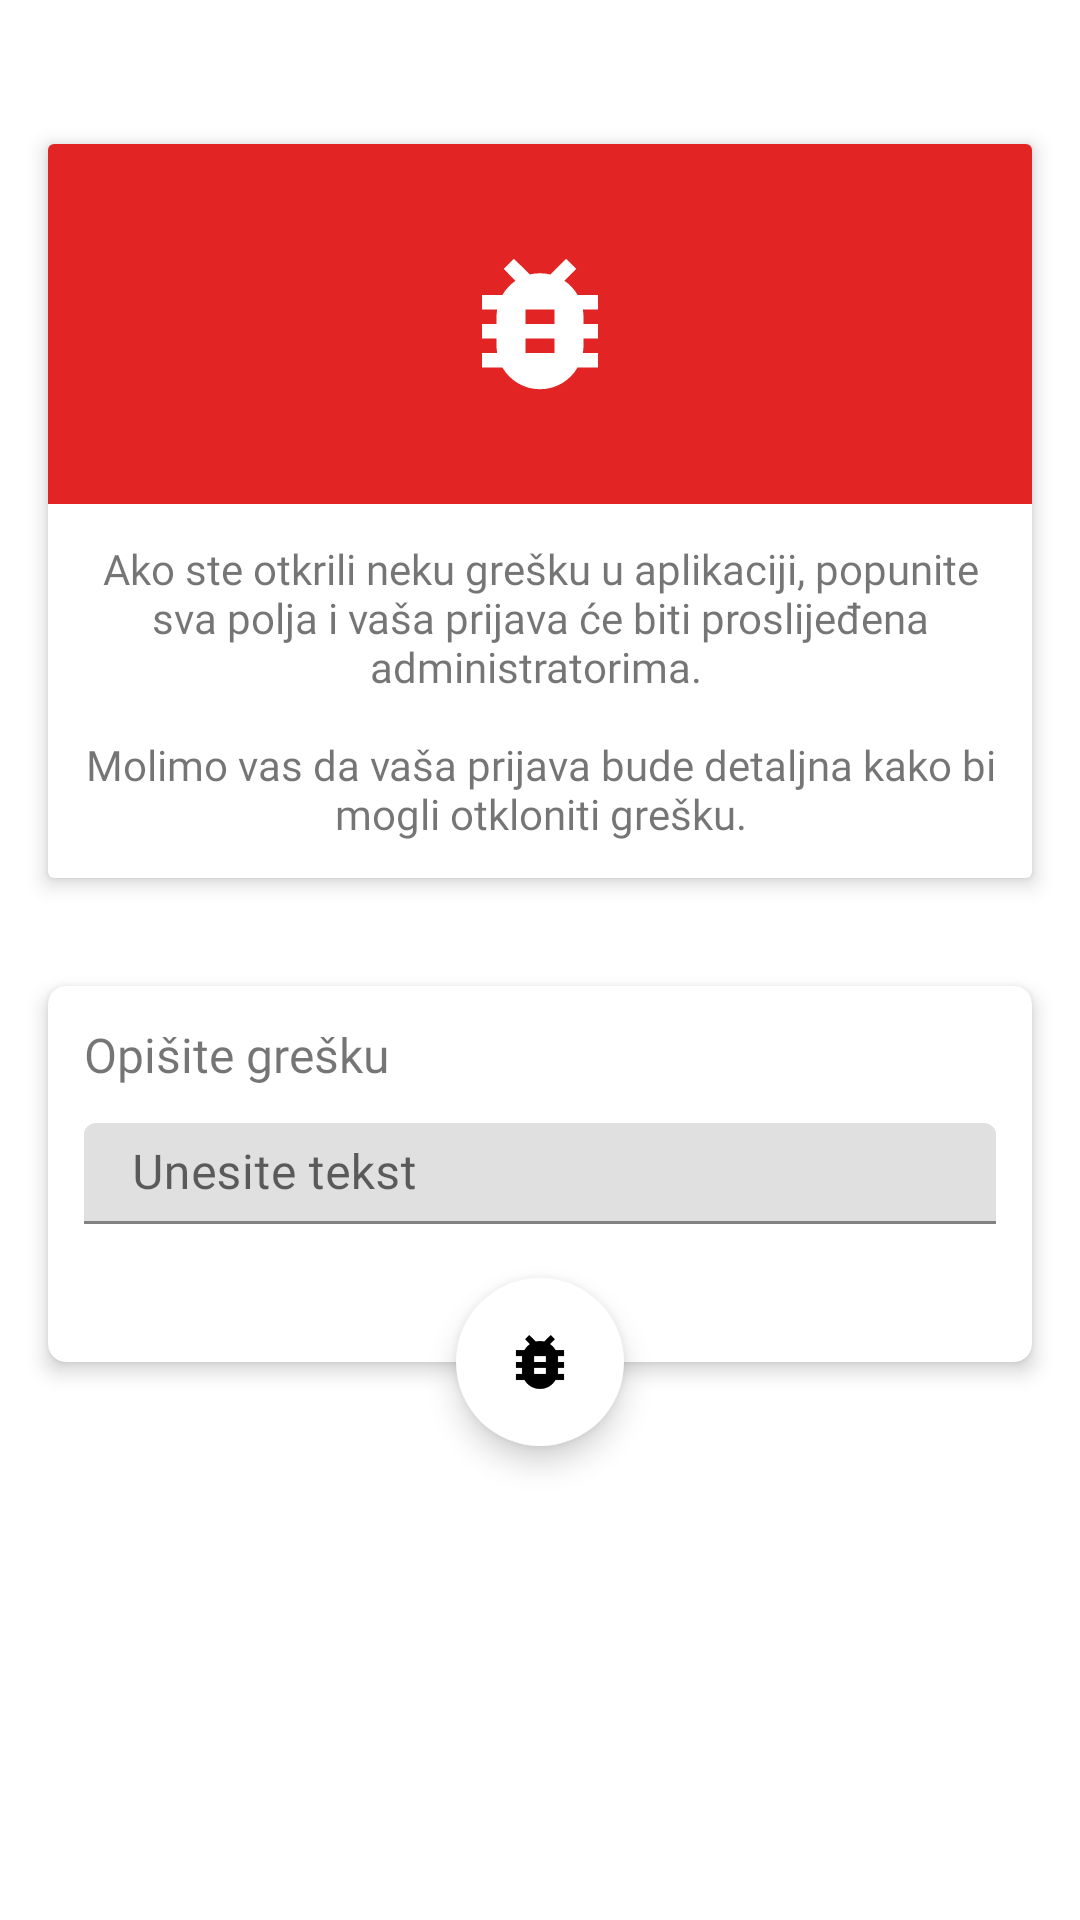

Screen size 1080*1920. Icon name, then its box in pixels as (x1, y1, x2, y2):
bug: (482, 259, 598, 390), (516, 1335, 564, 1389)
